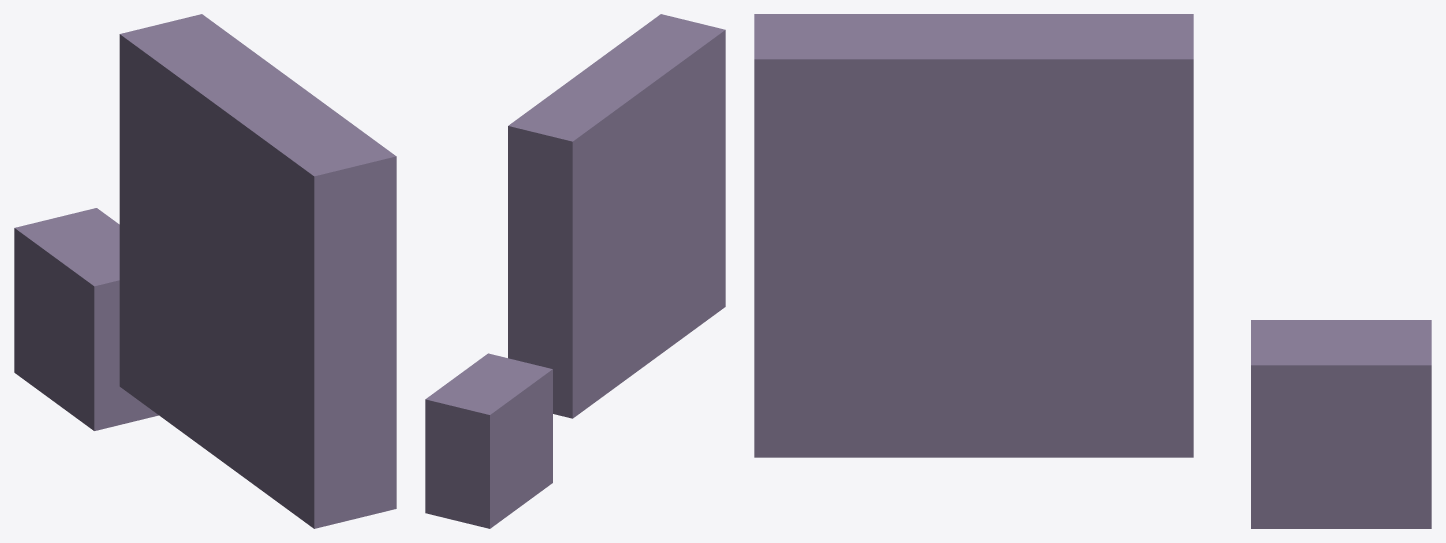
The model's file is Side Rocks 3.glb.
3 renders of one model, left to right at view 1: azimuth 30°, elevation 25°; view 2: azimuth 150°, elevation 25°; view 3: azimuth 270°, elevation 25°, orthographic. The views are drawn at different scales.
Visible parts, largest first — view 1: Cube.016, Cube.017; view 2: Cube.016, Cube.017; view 3: Cube.016, Cube.017.
Boxes of the visible parts, <box> form: Cube.016: <box>119,14,396,528</box>; Cube.017: <box>14,208,158,430</box>; Cube.016: <box>508,14,725,418</box>; Cube.017: <box>425,353,552,528</box>; Cube.016: <box>754,14,1193,457</box>; Cube.017: <box>1251,320,1431,528</box>.
Size of the model in its own units: 0.1609 by 0.7768 by 1.02.
